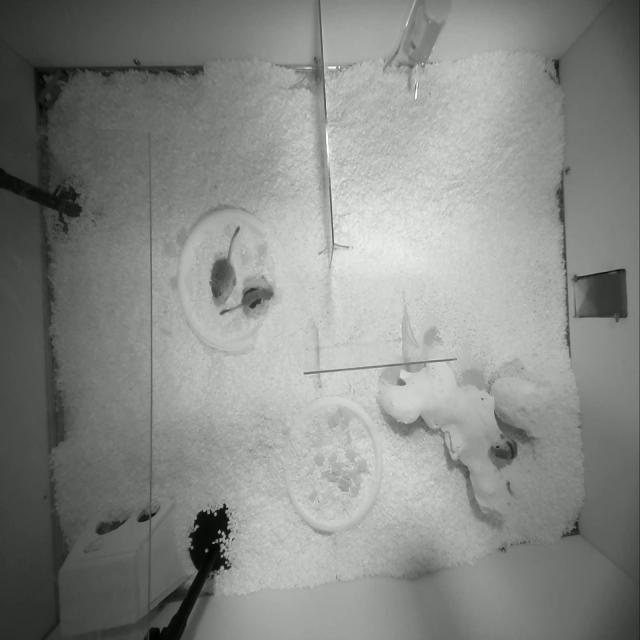pup_fluffy: (210, 226, 240, 302)
pup_h_stripe: (490, 434, 517, 460)
pup_v_stripe: (220, 287, 273, 314)
